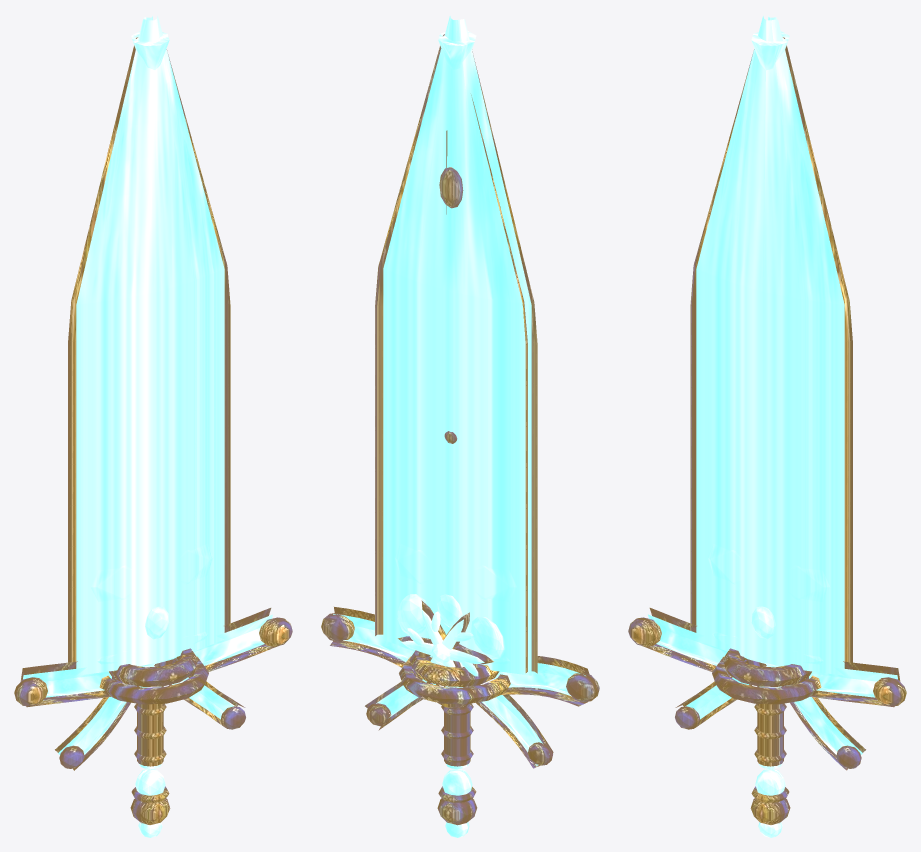
The model's file is frost_blade.glb.
3 views of the same model, side by side, from view 1: azimuth 30°, elevation 25°; view 2: azimuth 150°, elevation 25°; view 3: azimuth 330°, elevation 25° (orthographic).
Visible parts, largest first — view 1: glow, metal; view 2: glow, metal; view 3: glow, metal.
Part boxes in pixels (x1,y1,x2,y2): glow: (23,15,272,837); metal: (14,37,292,824); glow: (333,16,585,837); metal: (321,34,599,825); glow: (648,15,897,837); metal: (628,37,906,824).
Size of the model in its own units: 0.418 by 1.18 by 0.1501.
2 materials, 2 textured.
